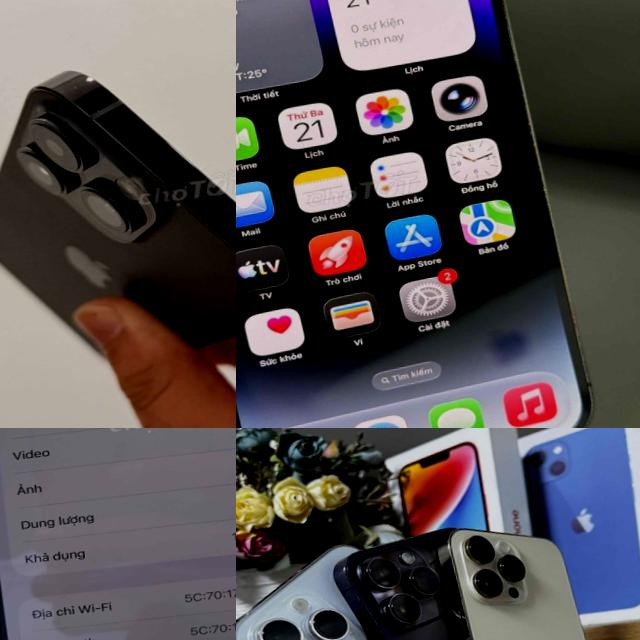scratch: (92, 101, 116, 121)
